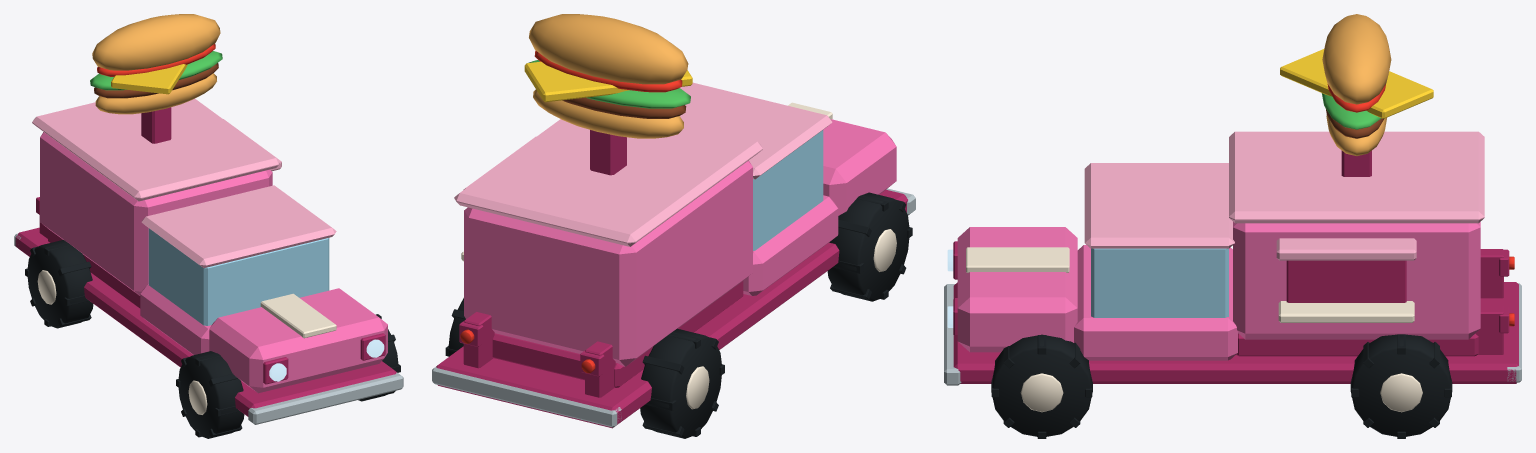
Rendered from FTF_Vehicle_FoodTruck_Pink_BurgerSign_5_5m.glb.
The picture shows the model from 3 angles, left to right: view 1: azimuth 30°, elevation 25°; view 2: azimuth 150°, elevation 25°; view 3: azimuth 270°, elevation 25°; orthographic projection. The views are drawn at different scales.
Visible parts, largest first — view 1: FTF_Vehicle_FoodTruck_Pink_BurgerSign_5_5m_Static, Wheel_RL_Mesh, Wheel_FL_Mesh, Wheel_FR_Mesh; view 2: FTF_Vehicle_FoodTruck_Pink_BurgerSign_5_5m_Static, Wheel_RL_Mesh, Wheel_FL_Mesh, Wheel_RR_Mesh; view 3: FTF_Vehicle_FoodTruck_Pink_BurgerSign_5_5m_Static, Wheel_RR_Mesh, Wheel_FR_Mesh.
Boxes of the visible parts, left/top/right/bottom form: FTF_Vehicle_FoodTruck_Pink_BurgerSign_5_5m_Static: left=14, top=14, right=403, bottom=424; Wheel_RL_Mesh: left=25, top=240, right=93, bottom=328; Wheel_FL_Mesh: left=176, top=351, right=244, bottom=438; Wheel_FR_Mesh: left=358, top=314, right=400, bottom=401; FTF_Vehicle_FoodTruck_Pink_BurgerSign_5_5m_Static: left=432, top=14, right=915, bottom=428; Wheel_RL_Mesh: left=640, top=328, right=724, bottom=438; Wheel_FL_Mesh: left=827, top=192, right=912, bottom=301; Wheel_RR_Mesh: left=445, top=298, right=465, bottom=356; FTF_Vehicle_FoodTruck_Pink_BurgerSign_5_5m_Static: left=944, top=14, right=1521, bottom=385; Wheel_RR_Mesh: left=1350, top=334, right=1452, bottom=438; Wheel_FR_Mesh: left=991, top=334, right=1092, bottom=438.
Size of the model in its own units: 2.53 by 3.85 by 5.69.
